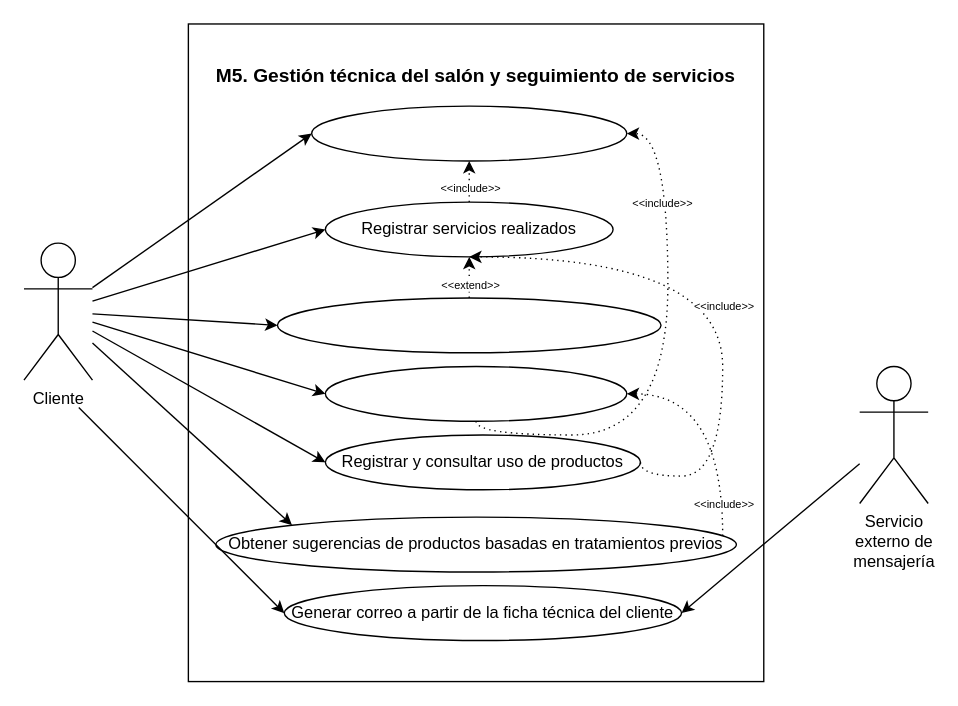
Image size: 958x706. Some labels were removed from this diagram. Here are the shapes that lost their labels. From the top down, the centre of each, then its label:
the point at 468,133: Gestionar fichas de clientes del salón
the point at 468,325: Registrar información técnica de tratamientos
the point at 475,393: Consultar historial técnico del cliente
